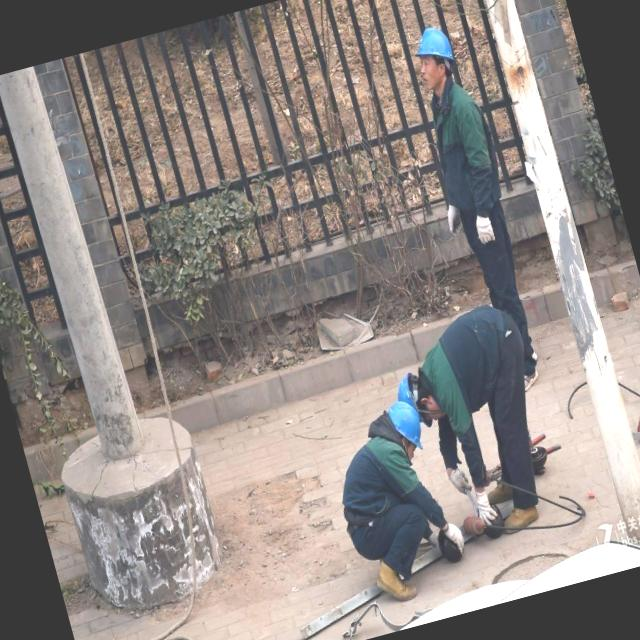helmet: (384, 389, 433, 458), (408, 15, 458, 65)
